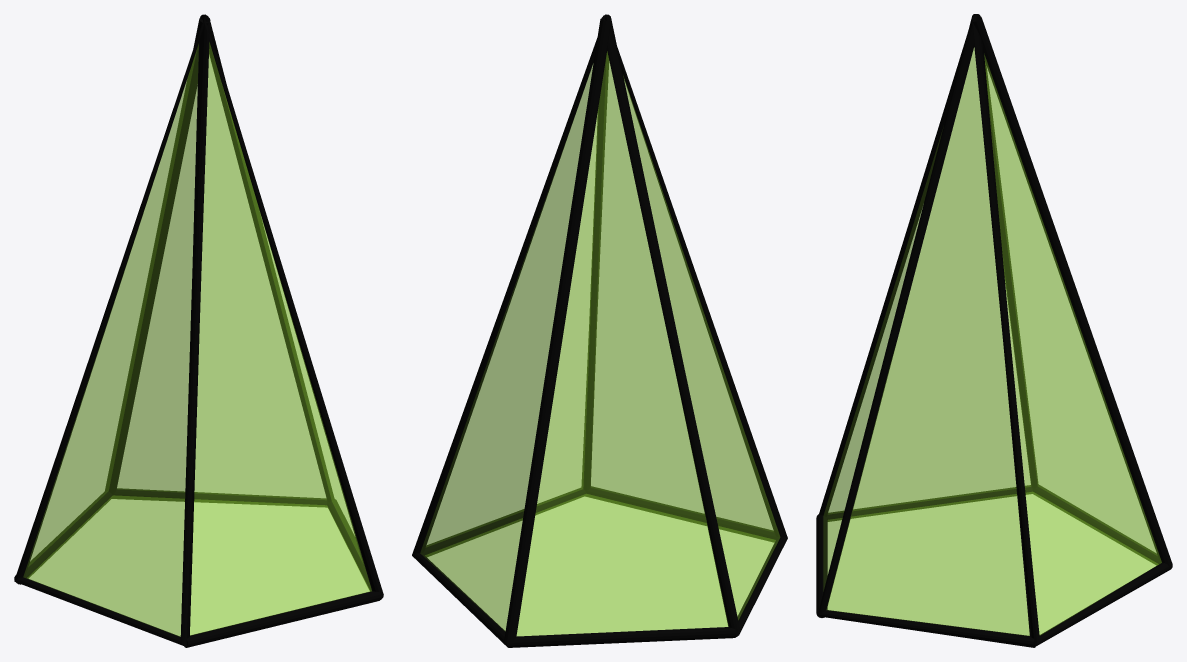
Rendered from piramide.glb.
3 views of the same model, side by side, from view 1: azimuth 30°, elevation 25°; view 2: azimuth 150°, elevation 25°; view 3: azimuth 270°, elevation 25° (orthographic).
Visible parts, largest first — view 1: Circle.001, Circle.002; view 2: Circle.001, Circle.002; view 3: Circle.001, Circle.002.
Boxes of the visible parts, bbox=[...] form: Circle.001: bbox=[23, 42, 371, 636]; Circle.002: bbox=[14, 14, 383, 647]; Circle.001: bbox=[420, 51, 779, 636]; Circle.002: bbox=[412, 14, 787, 647]; Circle.001: bbox=[823, 47, 1161, 635]; Circle.002: bbox=[816, 14, 1172, 647].
Size of the model in its own units: 1.96 by 3.22 by 1.87.
